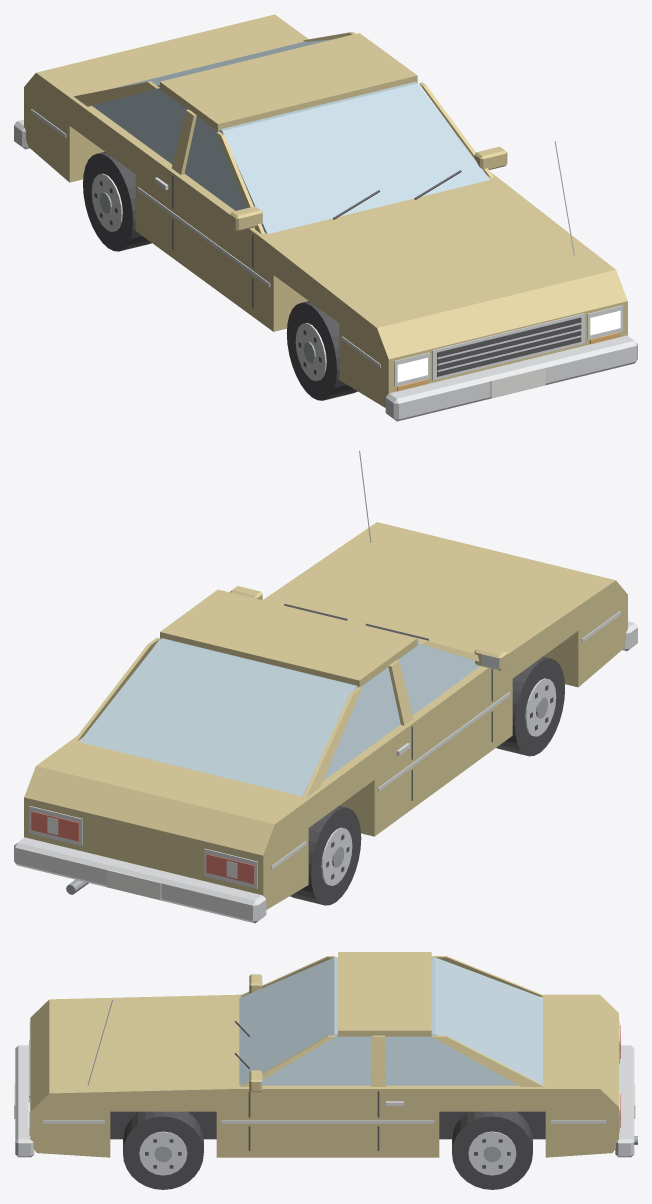
The model's file is car_coupe_y.glb.
The picture shows the model from 3 angles, top to bottom: view 1: azimuth 30°, elevation 25°; view 2: azimuth 150°, elevation 25°; view 3: azimuth 270°, elevation 25°; orthographic projection. The views are drawn at different scales.
Parts seen in each view (by area): view 1: car_coupe_y_car_y, car_coupe_y_glass, car_coupe_y_chrome, car_coupe_y_rubber, car_coupe_y_dark, car_coupe_y_lamp_glass, car_coupe_y_paint_w; view 2: car_coupe_y_car_y, car_coupe_y_glass, car_coupe_y_chrome, car_coupe_y_rubber, car_coupe_y_neon_r, car_coupe_y_paint_w, car_coupe_y_dark; view 3: car_coupe_y_car_y, car_coupe_y_glass, car_coupe_y_rubber, car_coupe_y_chrome, car_coupe_y_dark, car_coupe_y_steel.
Boxes of the visible parts, x1,y1,x2,y2 form: car_coupe_y_car_y: (24,14,627,407); car_coupe_y_glass: (92,39,489,234); car_coupe_y_chrome: (14,109,637,421); car_coupe_y_rubber: (83,152,357,400); car_coupe_y_dark: (94,170,581,376); car_coupe_y_lamp_glass: (397,310,620,382); car_coupe_y_paint_w: (490,367,545,398); car_coupe_y_car_y: (24,522,627,909); car_coupe_y_glass: (79,638,479,796); car_coupe_y_chrome: (14,450,637,923); car_coupe_y_rubber: (290,656,564,905); car_coupe_y_neon_r: (31,811,254,884); car_coupe_y_paint_w: (47,817,237,900); car_coupe_y_dark: (284,603,553,879); car_coupe_y_car_y: (30,952,618,1157); car_coupe_y_glass: (239,957,542,1085); car_coupe_y_rubber: (110,1111,545,1189); car_coupe_y_chrome: (15,1000,634,1175); car_coupe_y_dark: (29,1021,510,1168); car_coupe_y_steel: (154,1136,637,1162).
Size of the model in its own units: 2 by 1.6 by 4.93.
